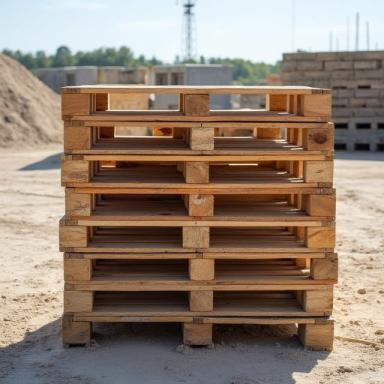pallet: (59, 214, 336, 254), (61, 85, 332, 123), (62, 315, 335, 351), (61, 154, 334, 189), (63, 252, 338, 286), (63, 121, 334, 155), (65, 188, 336, 221), (63, 284, 334, 316), (91, 259, 188, 277), (98, 94, 179, 110), (215, 258, 296, 270), (94, 226, 182, 236), (210, 95, 266, 109), (209, 226, 293, 235), (99, 194, 183, 202), (115, 127, 172, 137), (214, 128, 257, 138)
